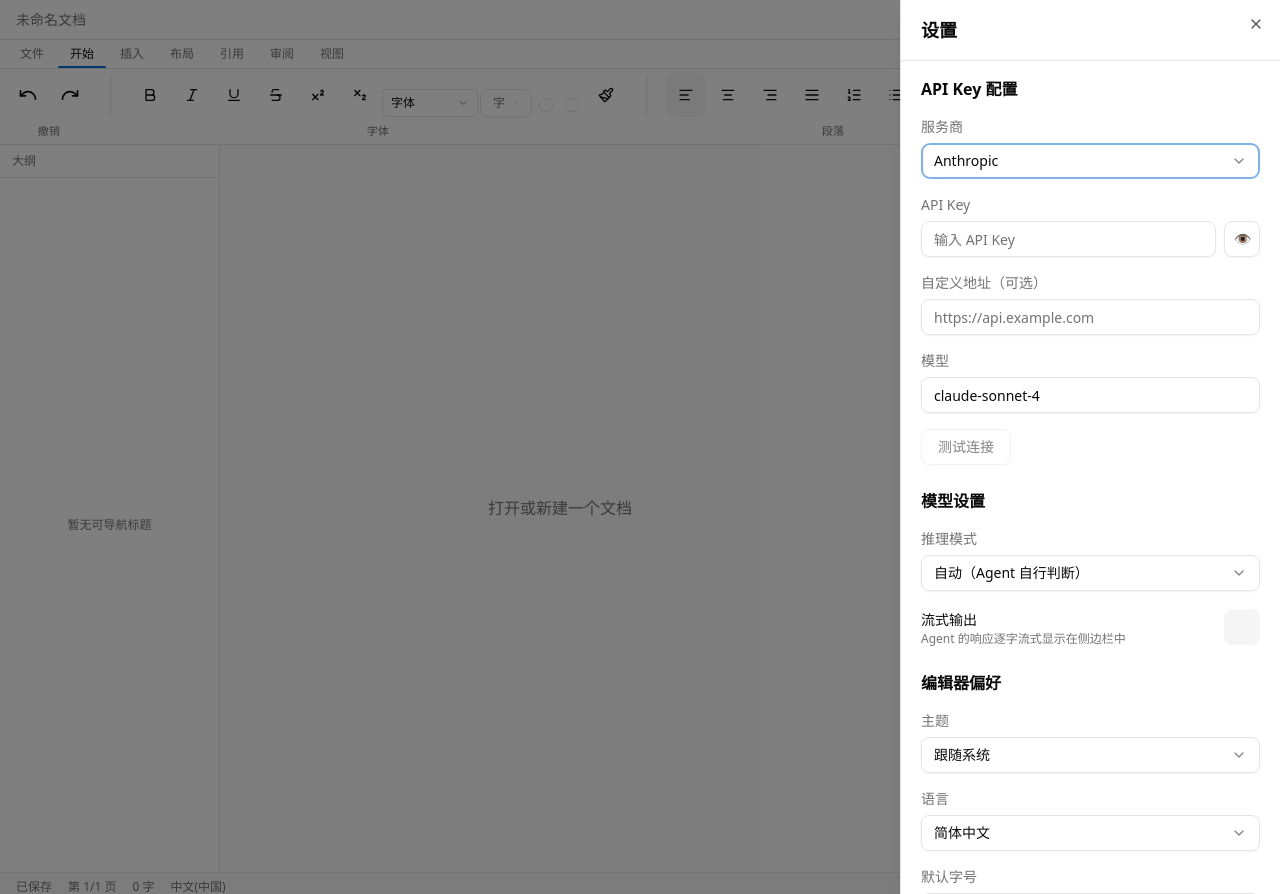
Test: App › closes SettingsDrawer when clicking the close button
Check: the heading "API Key 配置" is shown, box left=921, top=78, right=1018, bottom=100
Click the button named "Close" at [1256, 24], box left=1248, top=16, right=1264, bottom=32
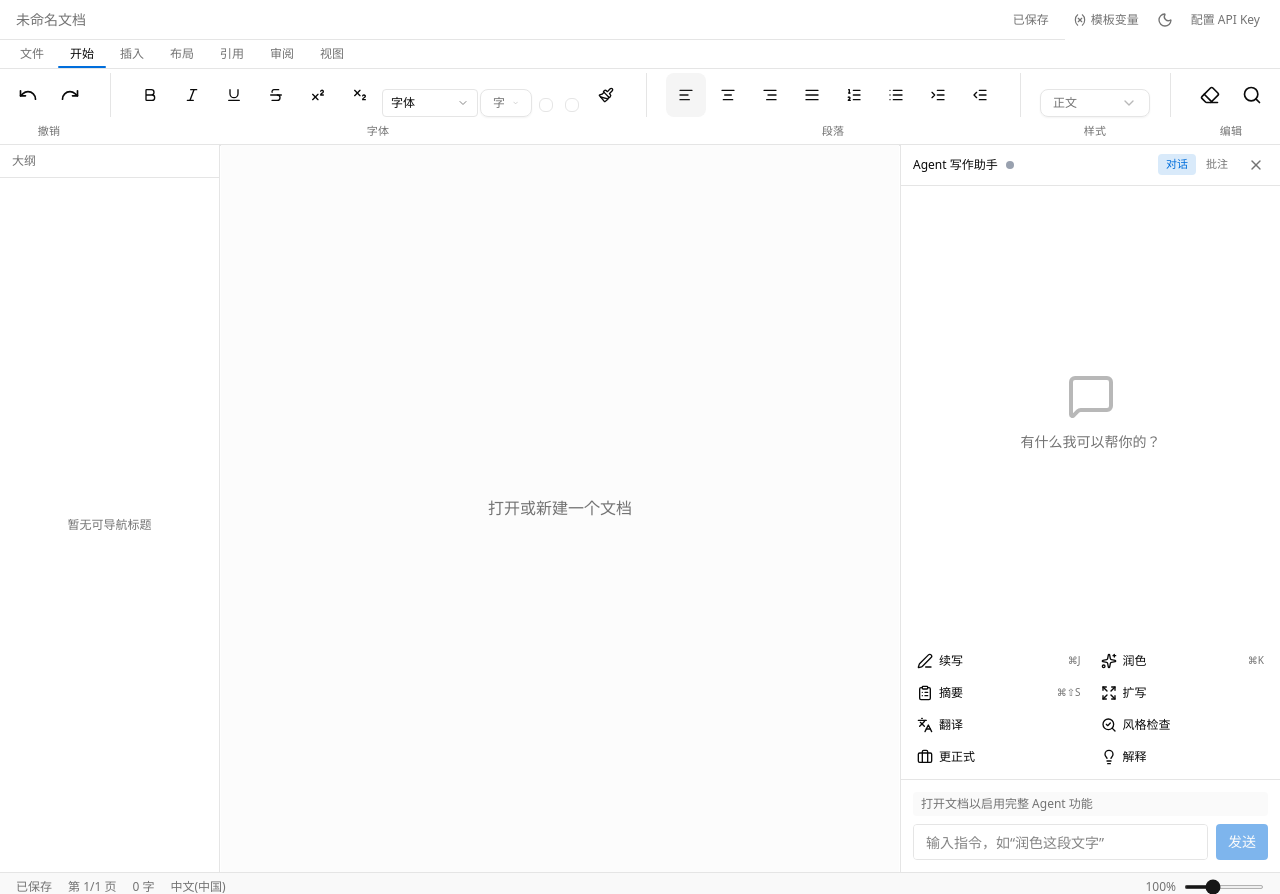
Check: the heading "API Key 配置" is gone
